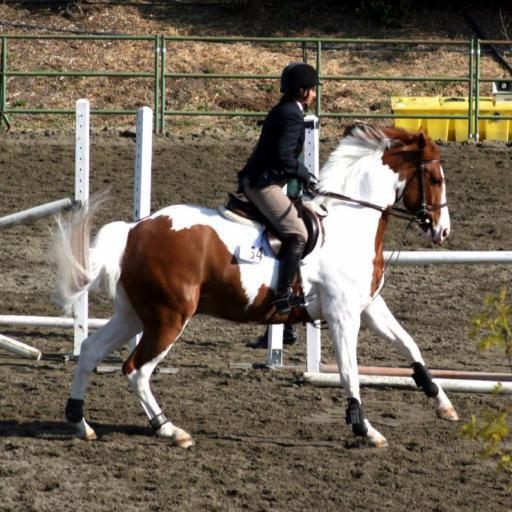horse: (43, 121, 459, 448)
